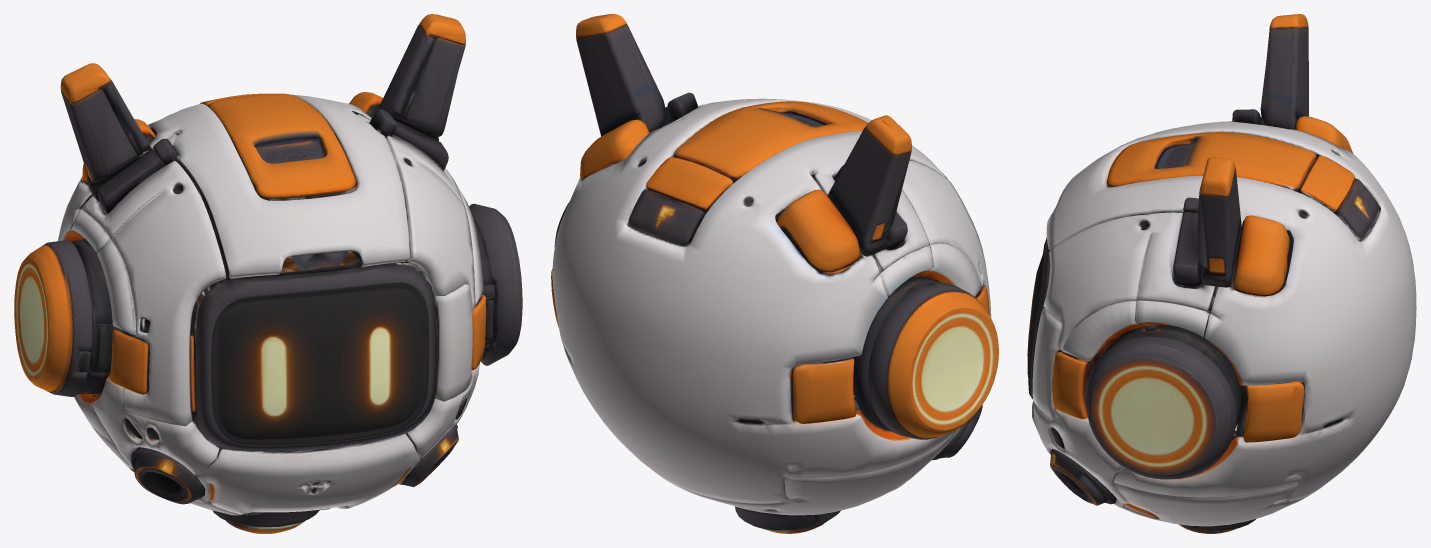
File: RobotPlayer.glb
3 renders of one model, left to right at view 1: azimuth 30°, elevation 25°; view 2: azimuth 150°, elevation 25°; view 3: azimuth 270°, elevation 25°, orthographic. The views are drawn at different scales.
Parts seen in each view (by area): view 1: tripo_node_9fb901ea-e8fa-4c11-9b6a-b7b394d87e2d; view 2: tripo_node_9fb901ea-e8fa-4c11-9b6a-b7b394d87e2d; view 3: tripo_node_9fb901ea-e8fa-4c11-9b6a-b7b394d87e2d.
Part boxes in pixels (x1,y1,x2,y2): tripo_node_9fb901ea-e8fa-4c11-9b6a-b7b394d87e2d: [14, 14, 522, 533]; tripo_node_9fb901ea-e8fa-4c11-9b6a-b7b394d87e2d: [551, 14, 998, 533]; tripo_node_9fb901ea-e8fa-4c11-9b6a-b7b394d87e2d: [1027, 14, 1416, 533].
Bounding box in the file's own units: 0.9946 × 0.9995 × 0.7856.
1 material, 1 textured.
